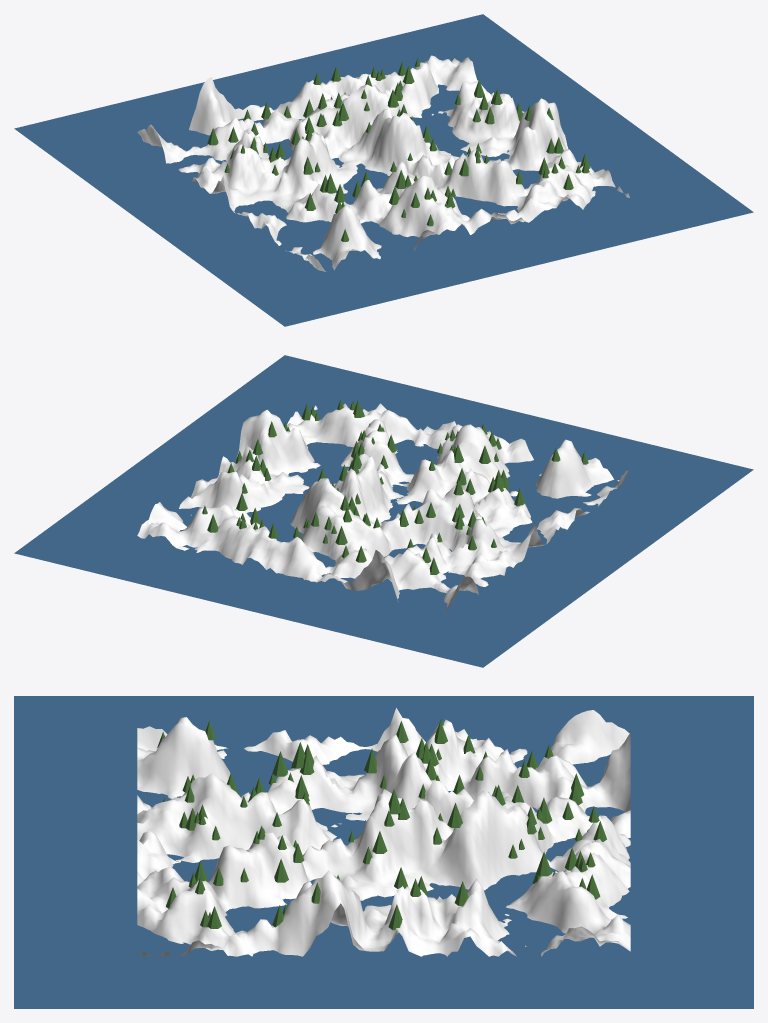
The model's file is kenai-peninsula.glb.
3 views of the same model, one above another, from view 1: azimuth 30°, elevation 25°; view 2: azimuth 150°, elevation 25°; view 3: azimuth 270°, elevation 25° (orthographic). The views are drawn at different scales.
Visible parts, largest first — view 1: WaterPlane, AlaskaTerrain; view 2: WaterPlane, AlaskaTerrain; view 3: WaterPlane, AlaskaTerrain.
Part boxes in pixels (x1,y1,x2,y2): WaterPlane: (14,14,753,326); AlaskaTerrain: (137,55,629,271); WaterPlane: (14,355,753,667); AlaskaTerrain: (137,403,629,613); WaterPlane: (14,696,753,1008); AlaskaTerrain: (137,708,630,956).
Size of the model in its own units: 30 by 5.65 by 30.
